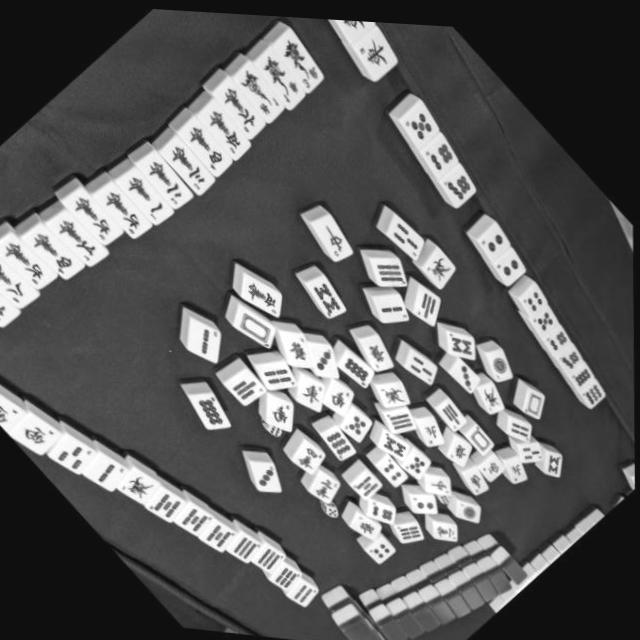bf1: (233, 64, 289, 122)
bs1: (257, 51, 310, 108)
bs3: (274, 32, 331, 93)
sc1: (120, 173, 176, 231)
sc2: (142, 158, 193, 213)
sc3: (163, 141, 219, 200)
sc4: (181, 122, 235, 179), (30, 233, 81, 287)
sc5: (201, 106, 254, 162)
sc6: (216, 83, 269, 140)
sc7: (52, 218, 106, 274), (0, 284, 14, 340)
sc8: (0, 262, 35, 319)
sc9: (99, 189, 152, 246), (0, 242, 53, 299), (70, 196, 122, 252)
